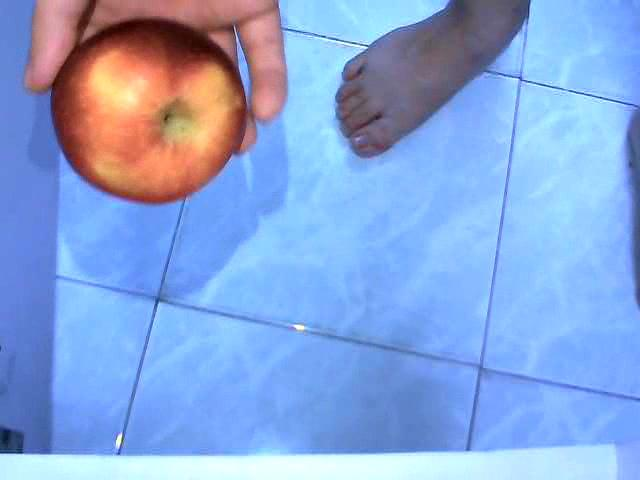apple: (51, 19, 245, 203)
